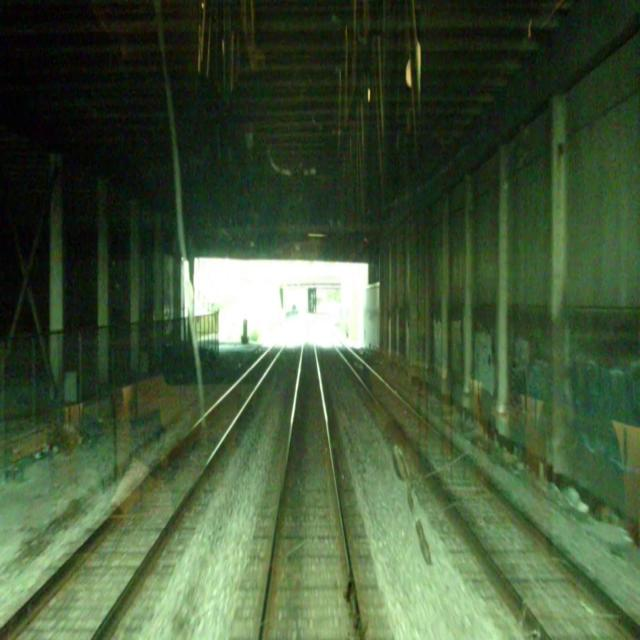rail-track: (329, 331, 640, 639), (0, 336, 285, 639), (261, 335, 357, 639)
